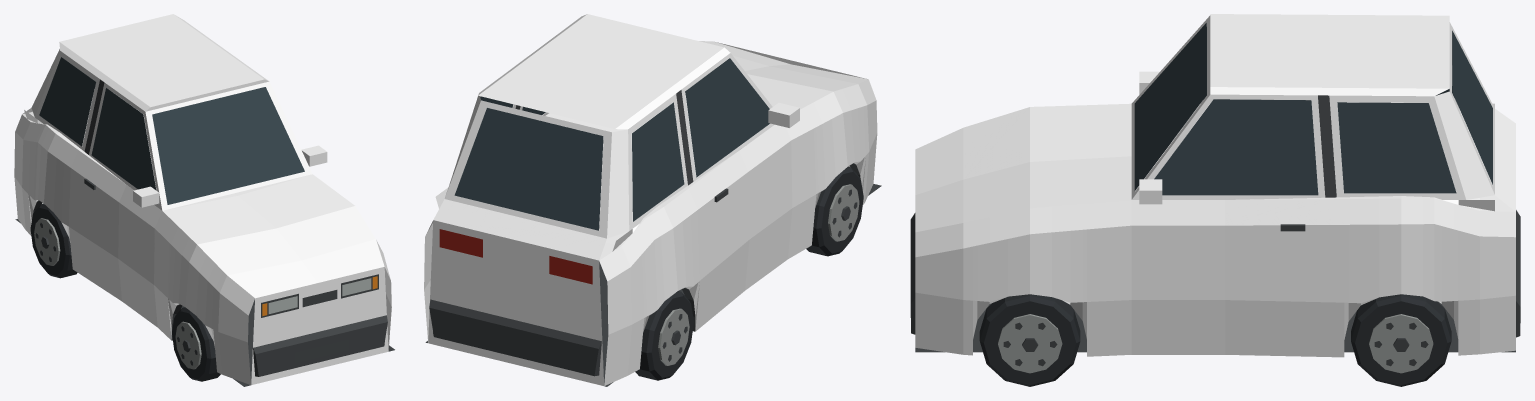
The model's file is hoshino_seiran_ii.glb.
3 views of the same model, side by side, from view 1: azimuth 30°, elevation 25°; view 2: azimuth 150°, elevation 25°; view 3: azimuth 270°, elevation 25° (orthographic). The views are drawn at different scales.
Visible parts, largest first — view 1: hoshino_seiran_ii; view 2: hoshino_seiran_ii; view 3: hoshino_seiran_ii.
Boxes of the visible parts, x1,y1,x2,y2 form: hoshino_seiran_ii: (14,14,394,386); hoshino_seiran_ii: (424,14,881,386); hoshino_seiran_ii: (910,14,1520,386).
Bounding box in the file's own units: 1.47 × 1.63 × 3.19.
Materials: 8 (1 with a texture image).
